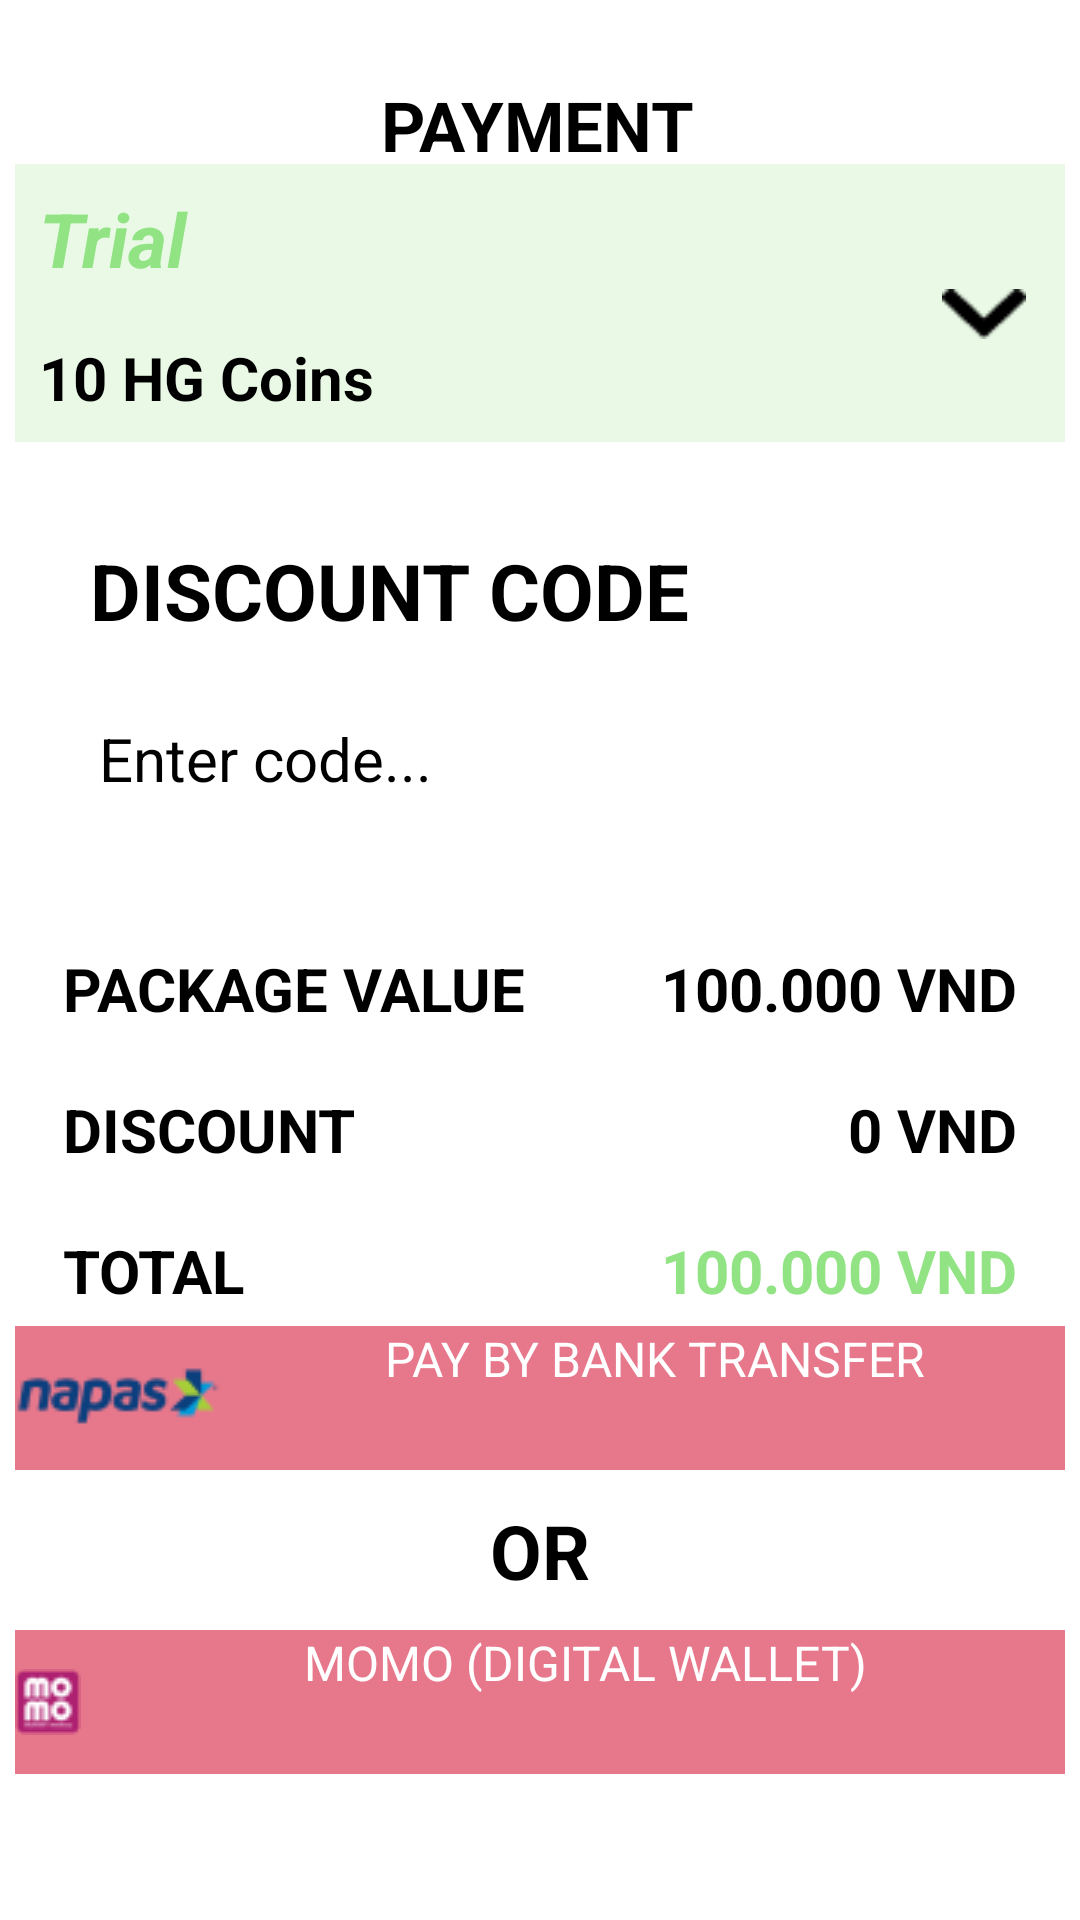

Icon bounding boxes for this 1080 x 1920 phone screenshot, format [x1, y1, x2, y2]:
dropdownicon: [942, 289, 1026, 339]
